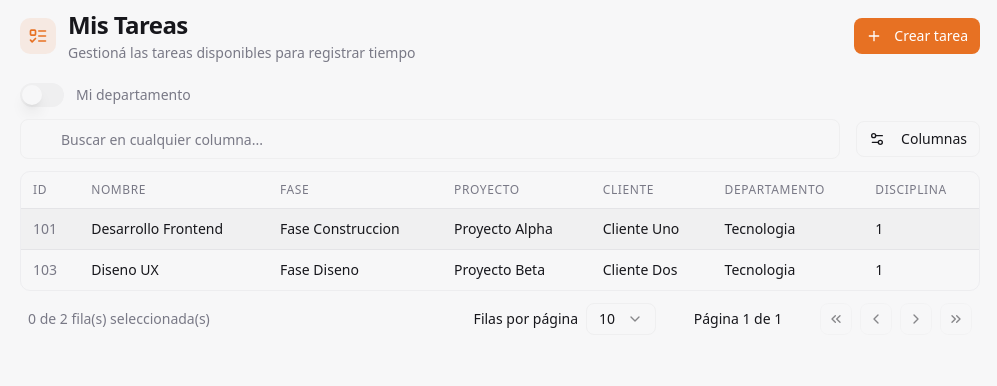
Scenario: AvailableTasksPage › shows all tasks when switch is toggled to "Todos"
This screenshot has width=997, height=386.
Expected: the text "Desarrollo Backend" is not shown
Click the switch. click: (42, 95)
box: [20, 83, 64, 107]
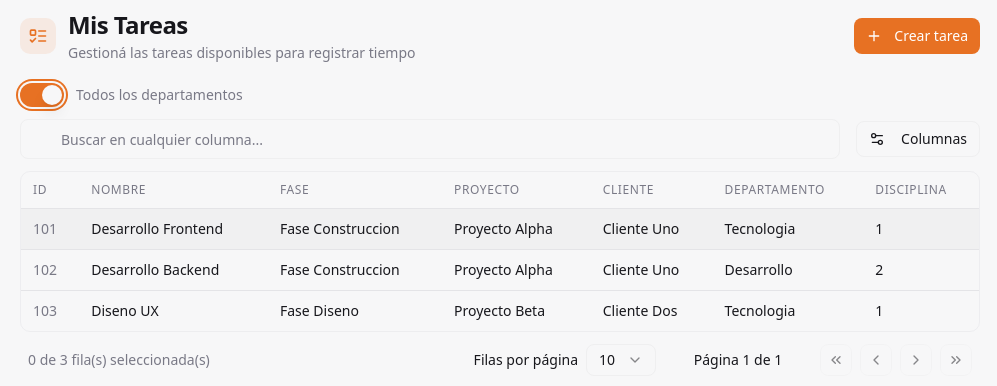
Expected: the text "Desarrollo Frontend" is shown, [91, 218, 223, 238]
Result: the text "Desarrollo Backend" is shown at [91, 260, 219, 278]
